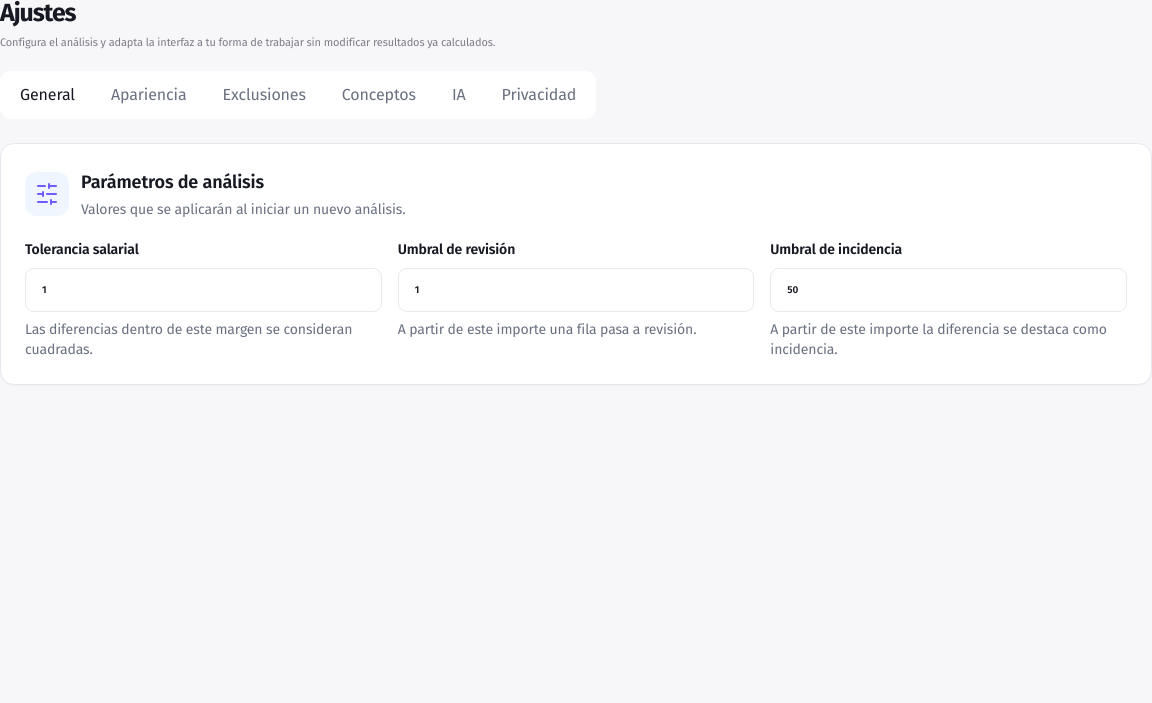
Test: SettingsView › shows No Norm. by default and switches to the normalized concepts view
Click the tab "Conceptos" at [379, 95], box [326, 75, 432, 115]
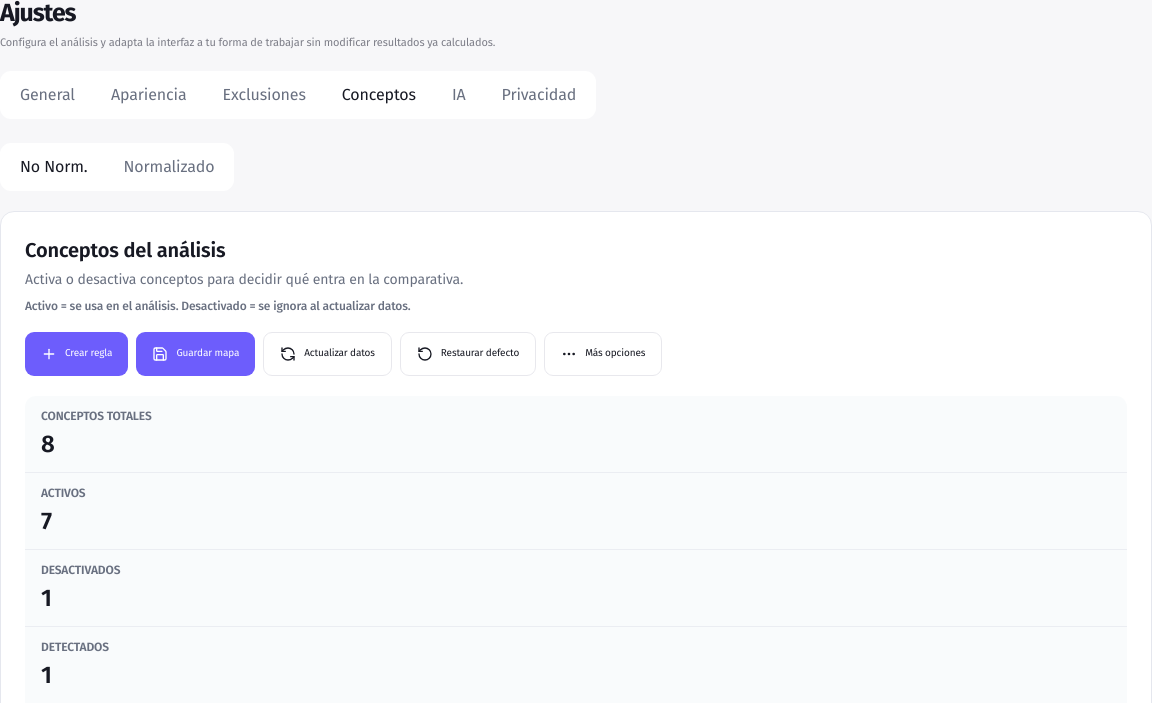
Expected: the heading "Conceptos normalizados" is not shown
Result: the heading "Conceptos del análisis" is shown at [25, 238, 225, 262]
Click the tab "Normalizado" at [169, 167], box [108, 147, 230, 187]
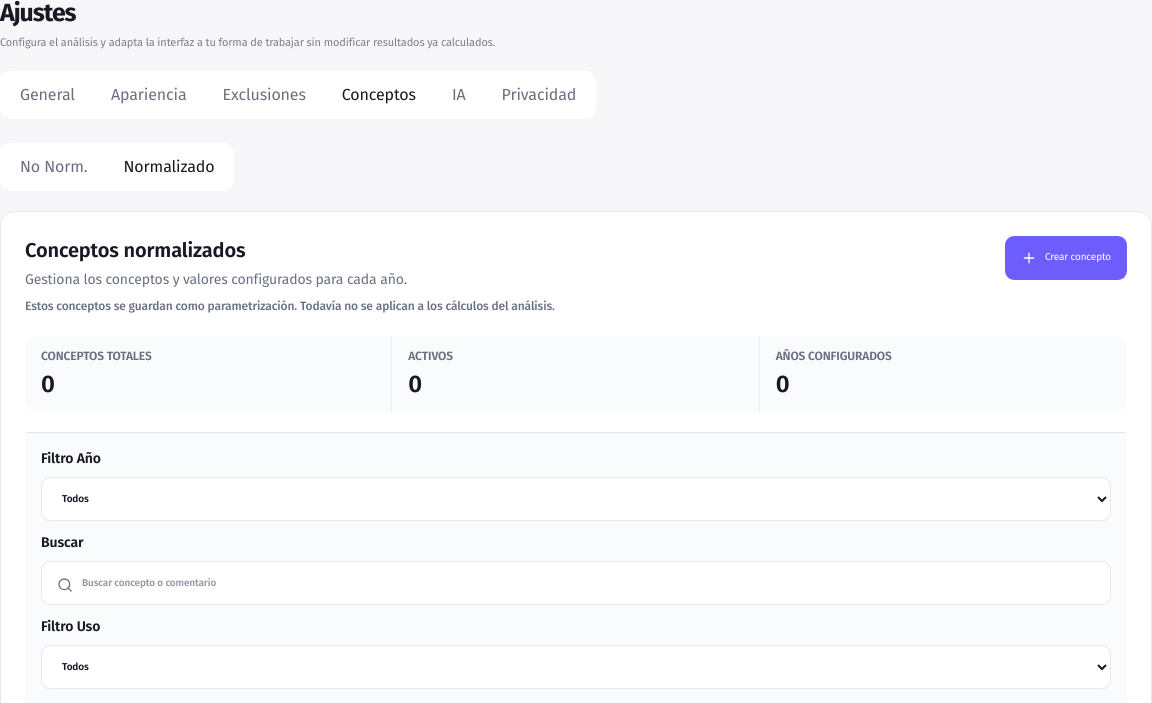
Result: the heading "Conceptos normalizados" is shown at [25, 238, 245, 262]
Result: the heading "Conceptos del análisis" is gone
